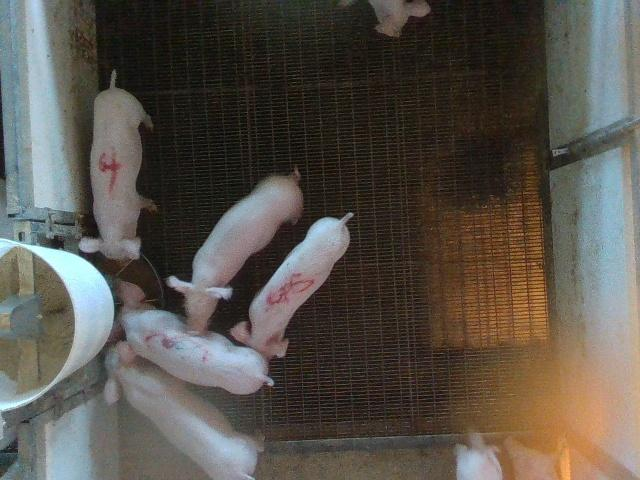pig-3: (120, 310, 274, 394)
pig-4: (79, 71, 155, 259)
pig-5: (231, 212, 352, 358)
